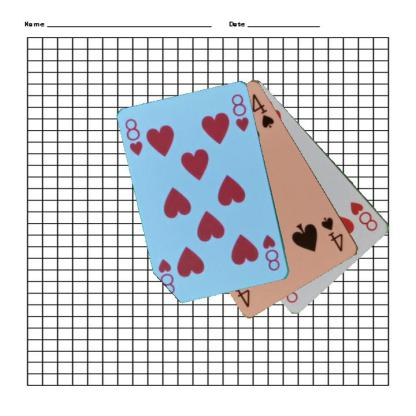4s: (318, 214, 345, 253)
8h: (348, 199, 379, 233), (122, 116, 145, 157), (260, 232, 281, 273)
